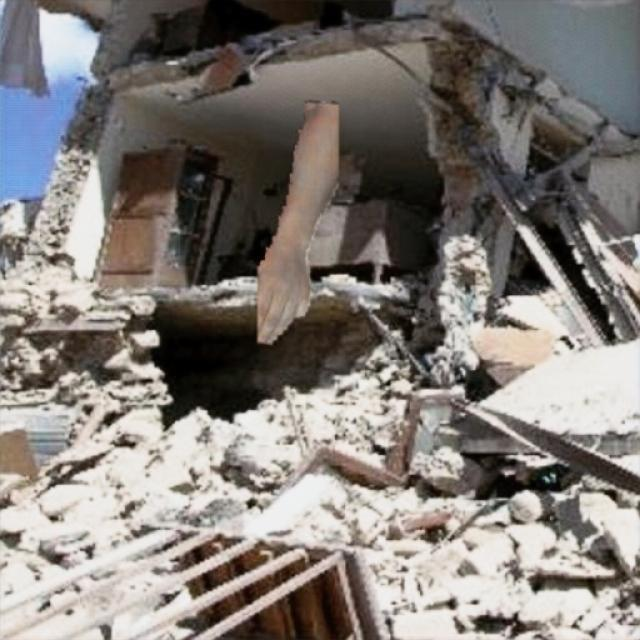Person in Rubble: (258, 100, 338, 344)
